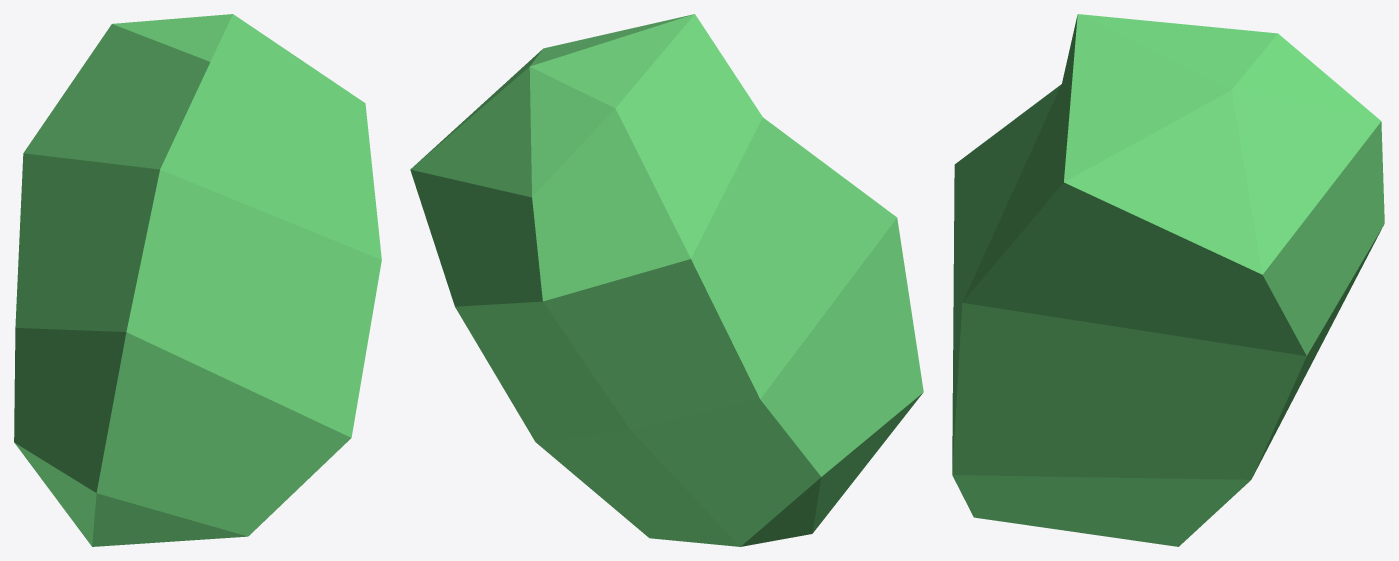
File: Shrub.fbx
3 renders of one model, left to right at view 1: azimuth 30°, elevation 25°; view 2: azimuth 150°, elevation 25°; view 3: azimuth 270°, elevation 25°, orthographic. The views are drawn at different scales.
Parts seen in each view (by area): view 1: pSphere14; view 2: pSphere14; view 3: pSphere14.
Part boxes in pixels (box(x1,y1,x2,y2)): pSphere14: box(14, 14, 381, 546); pSphere14: box(410, 14, 923, 546); pSphere14: box(952, 14, 1384, 546).
Bounding box in the file's own units: 64.53 × 80.67 × 59.3.
